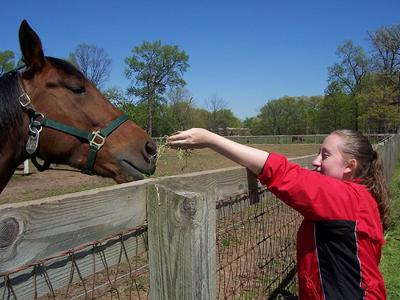person: (168, 126, 392, 300)
